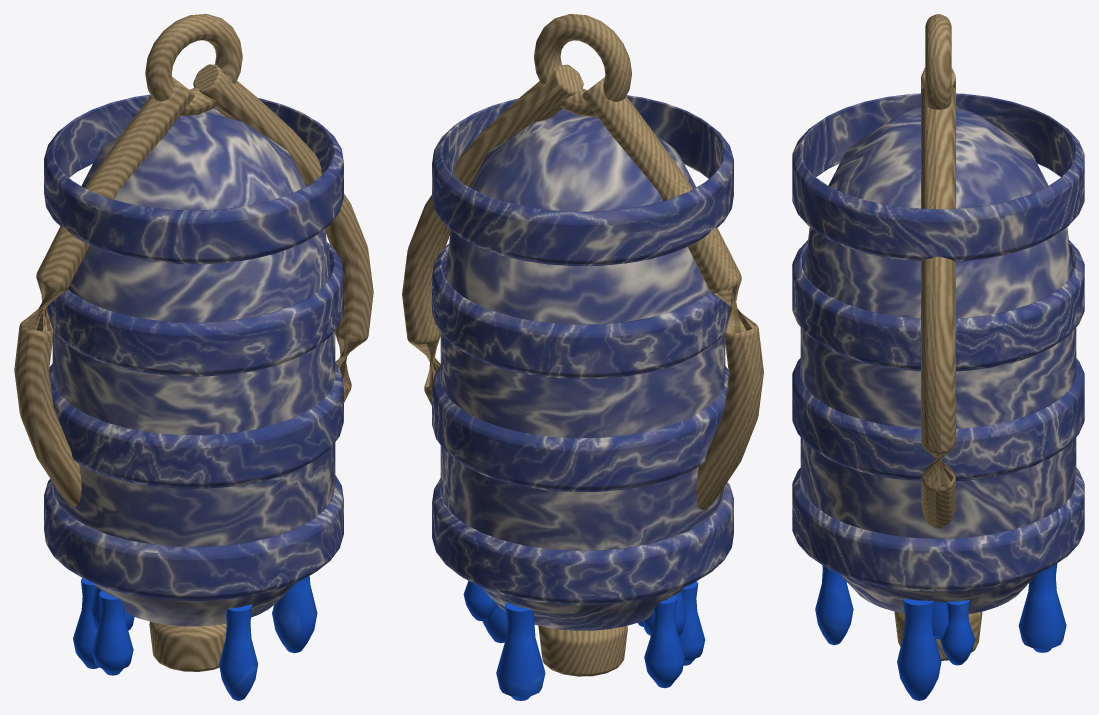
The model's file is buoy.glb.
3 views of the same model, side by side, from view 1: azimuth 30°, elevation 25°; view 2: azimuth 150°, elevation 25°; view 3: azimuth 270°, elevation 25° (orthographic). The views are drawn at different scales.
Parts seen in each view (by area): view 1: buoy; view 2: buoy; view 3: buoy.
Boxes of the visible parts, x1=… form: buoy: x1=14, y1=14, x2=373, y2=700; buoy: x1=402, y1=14, x2=763, y2=700; buoy: x1=792, y1=14, x2=1084, y2=700.
Size of the model in its own units: 0.5677 by 1 by 0.4131.
Materials: 1 (1 with a texture image).
